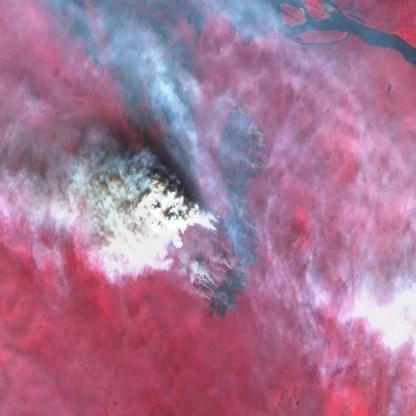fire: (166, 75, 271, 324)
